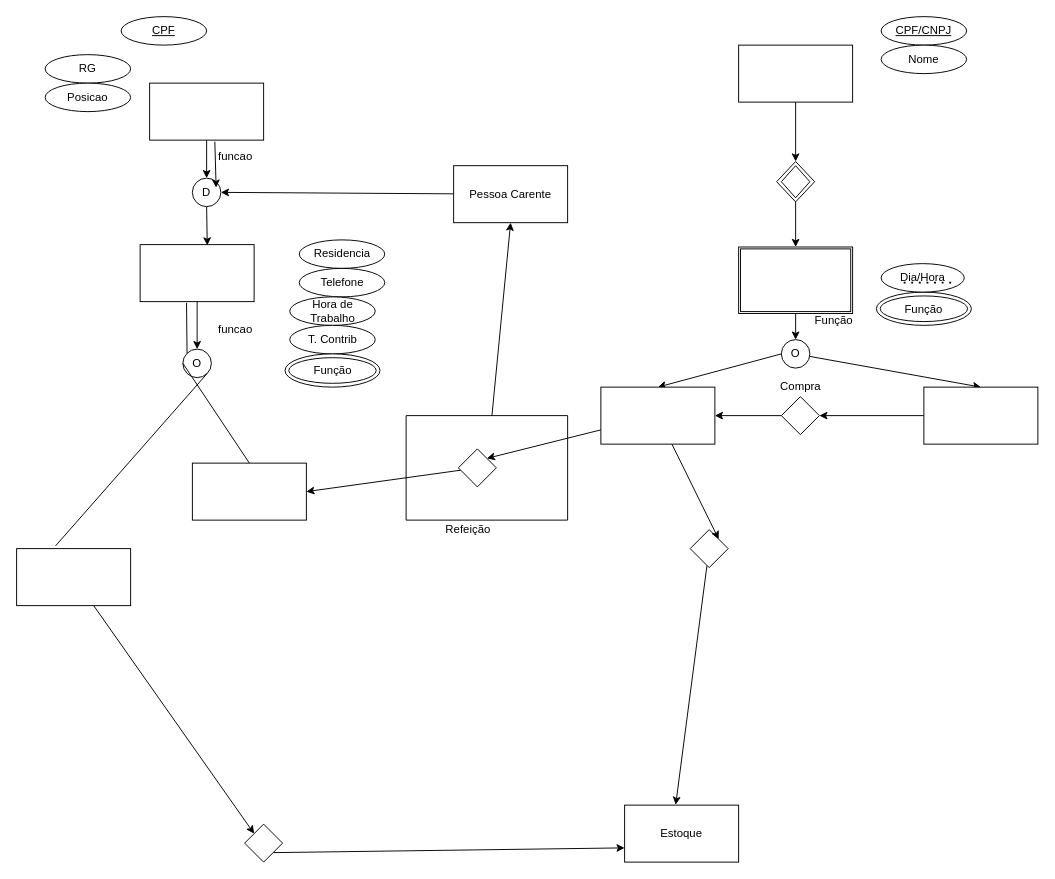
Image size: 1055x879. Some labels were removed from this diagram. The box of each missing label's shape, as (x1, y1, x2, y2) in pixels:
Alimento: (600, 386, 715, 444)
Colaborador: (139, 244, 254, 302)
Cozinheiro: (191, 462, 306, 520)
Dinheiro: (923, 386, 1038, 444)
Doador: (738, 44, 853, 102)
Doação: (738, 246, 853, 314)
Organizador: (16, 548, 131, 606)
Pessoa: (149, 82, 264, 140)
